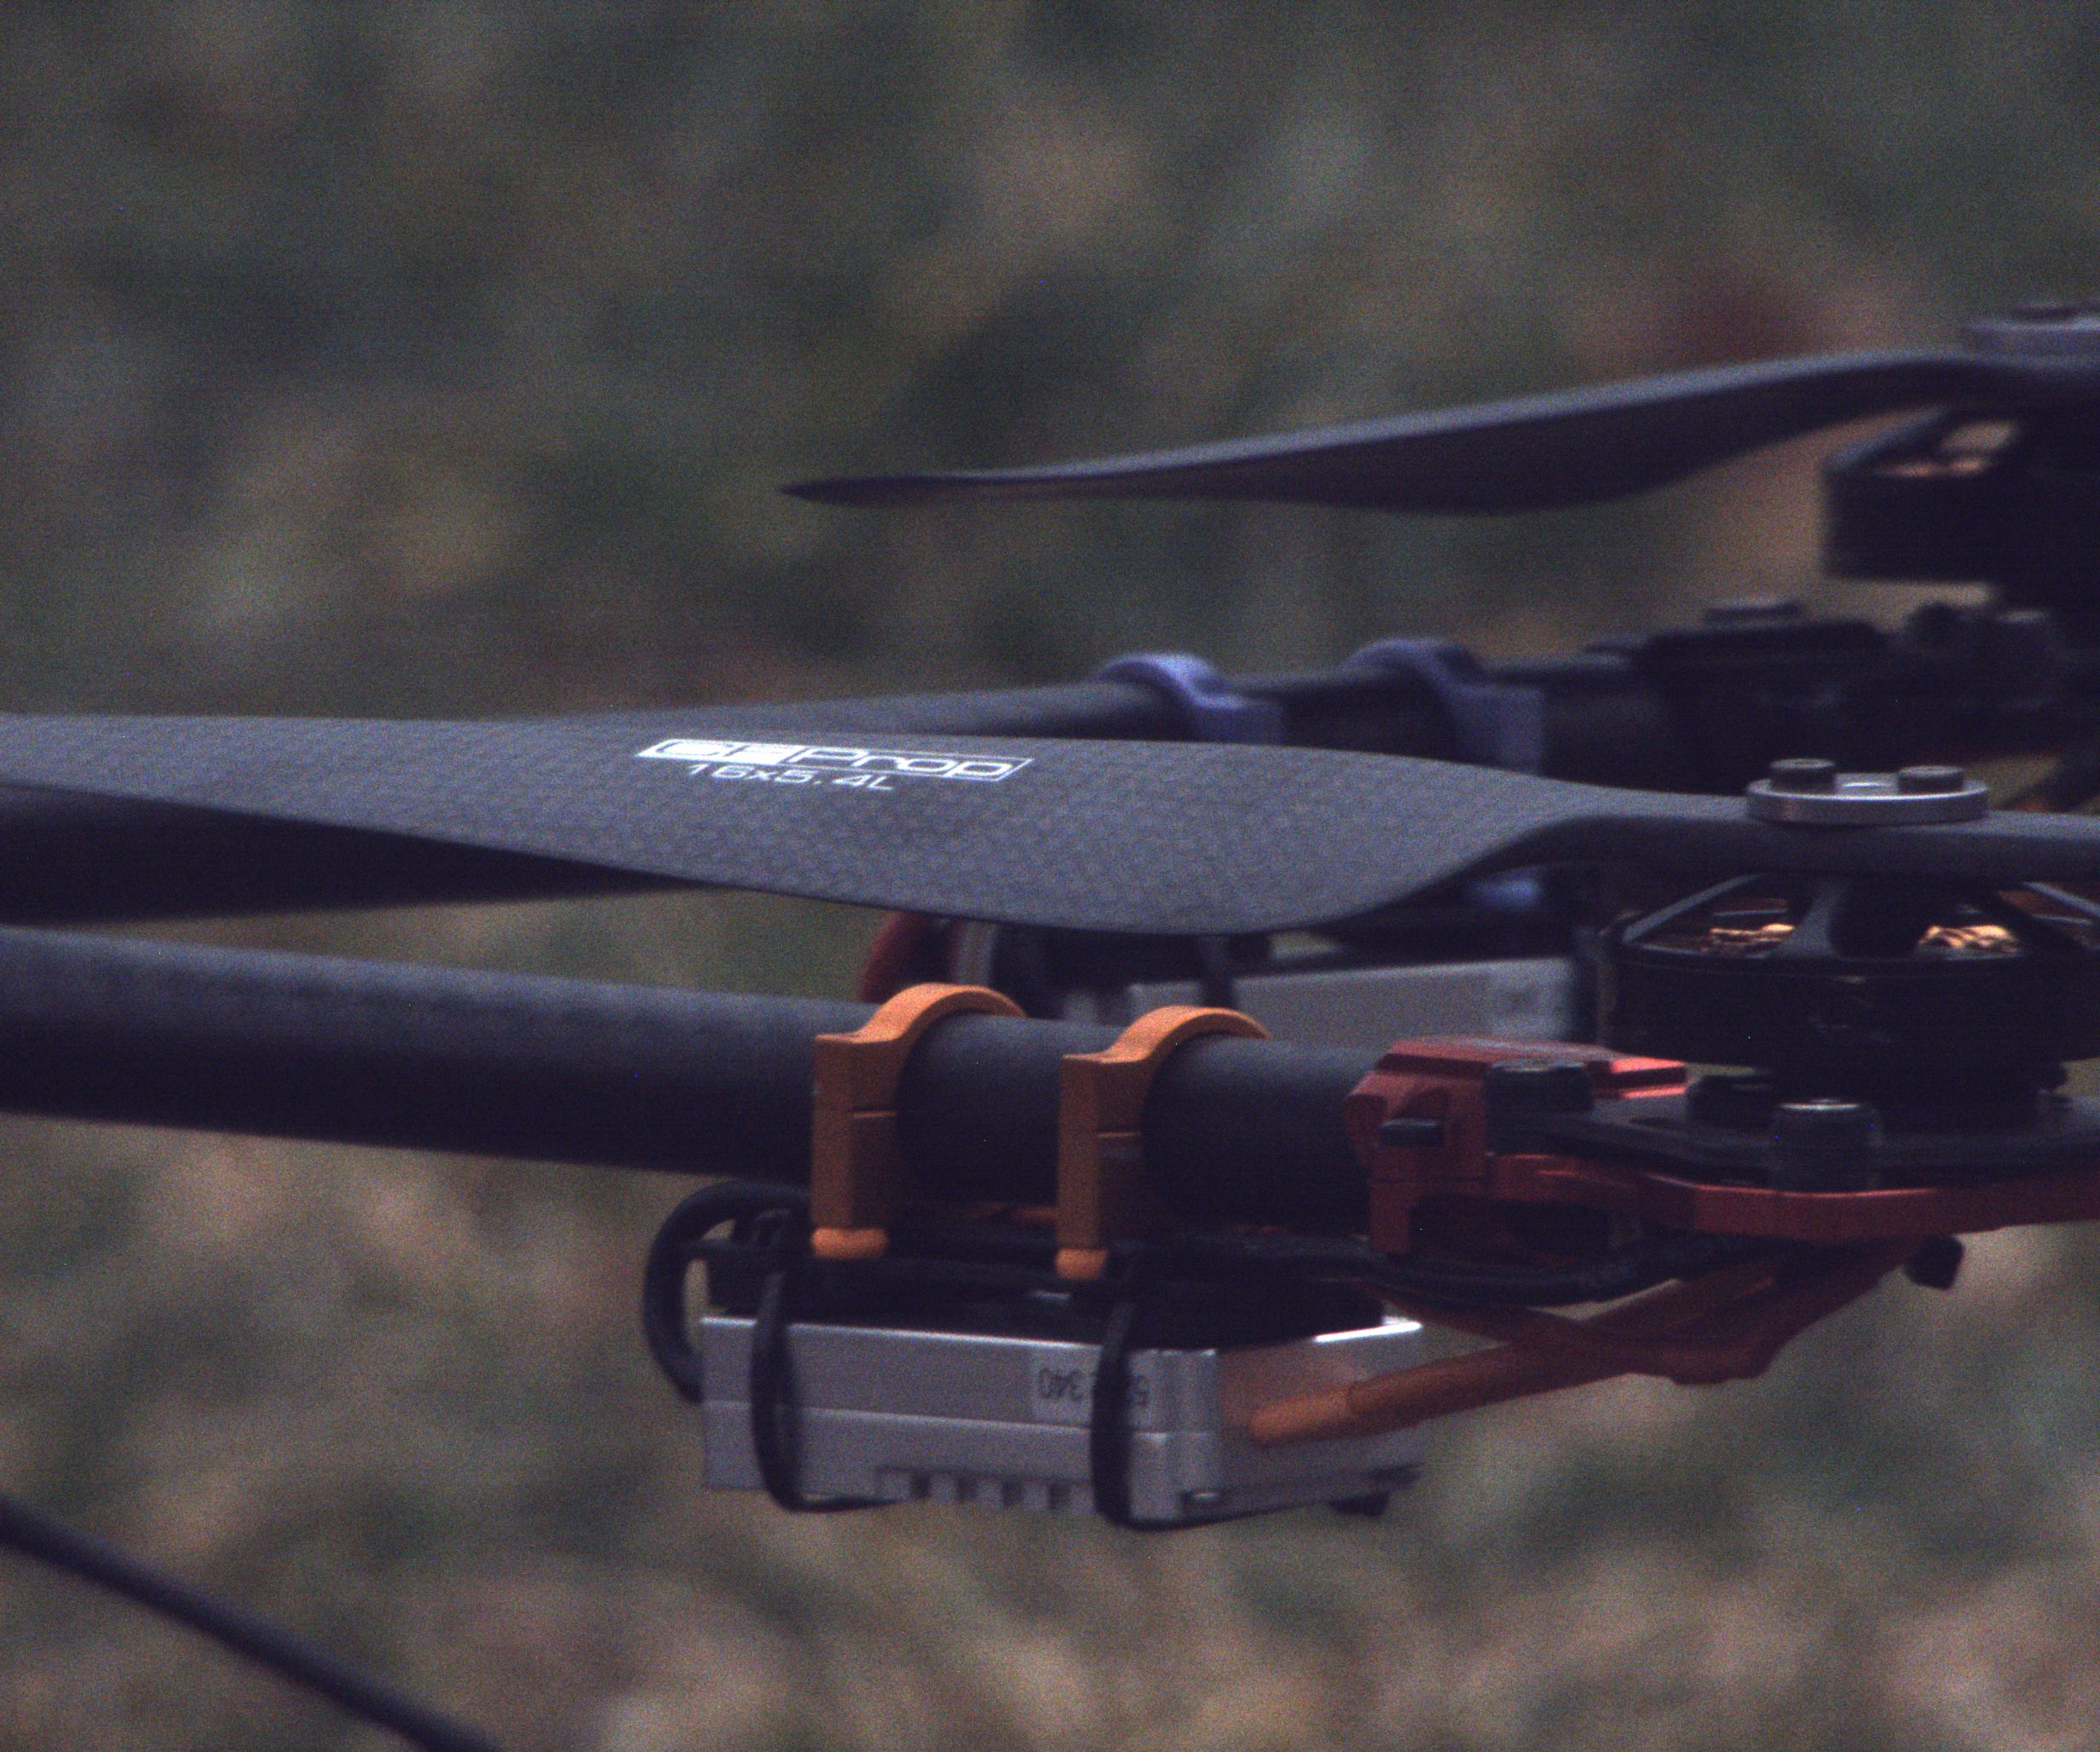Drohne: (7, 293, 2100, 1663)
